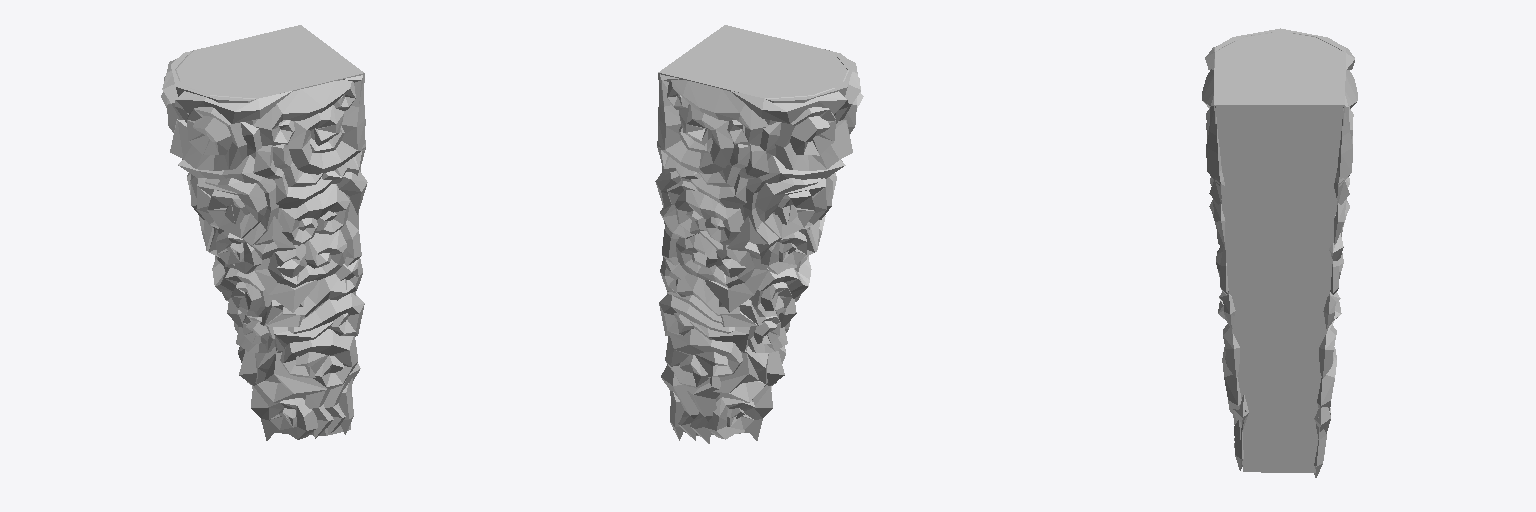
File: Yundan.obj
The picture shows the model from 3 angles: view 1: azimuth 30°, elevation 25°; view 2: azimuth 150°, elevation 25°; view 3: azimuth 270°, elevation 25°; orthographic projection.
Visible parts, largest first — view 1: polySurface6254 Flower_board:FlowerPl11, Flower_board:FlowerPl11 polySurface6257, Flower_board:FlowerPl11 polySurface6281, Flower_board:FlowerPl11 polySurface6283, Flower_board:FlowerPl11 polySurface6291, Flower_board:FlowerPl11 polySurface6259, Flower_board:FlowerPl11 polySurface6271, Flower_board:FlowerPl11 polySurface6304, Flower_board:FlowerPl11 polySurface6267, Flower_board:FlowerPl11 polySurface6285, Flower_board:FlowerPl11 polySurface6255, Flower_board:FlowerPl11 polySurface6302 (+16 smaller); view 2: polySurface6254 Flower_board:FlowerPl11, Flower_board:FlowerPl11 polySurface6281, Flower_board:FlowerPl11 polySurface6256, Flower_board:FlowerPl11 polySurface6282, Flower_board:FlowerPl11 polySurface6290, Flower_board:FlowerPl11 polySurface6304, Flower_board:FlowerPl11 polySurface6258, Flower_board:FlowerPl11 polySurface6267, Flower_board:FlowerPl11 polySurface6271, Flower_board:FlowerPl11 polySurface6284, Flower_board:FlowerPl11 polySurface6255, Flower_board:FlowerPl11 polySurface6302 (+14 smaller); view 3: polySurface6254 Flower_board:FlowerPl11, Flower_board:FlowerPl11 polySurface6256, Flower_board:FlowerPl11 polySurface6257, Flower_board:FlowerPl11 polySurface6264, Flower_board:FlowerPl11 polySurface6263, Flower_board:FlowerPl11 polySurface6291, Flower_board:FlowerPl11 polySurface6290.
Part boxes in pixels (x1,y1,x2,y2): polySurface6254 Flower_board:FlowerPl11: (171,25,364,435); Flower_board:FlowerPl11 polySurface6257: (289,75,365,174); Flower_board:FlowerPl11 polySurface6281: (161,76,246,170); Flower_board:FlowerPl11 polySurface6283: (254,80,355,145); Flower_board:FlowerPl11 polySurface6291: (280,329,357,389); Flower_board:FlowerPl11 polySurface6259: (268,230,347,287); Flower_board:FlowerPl11 polySurface6271: (238,321,332,402); Flower_board:FlowerPl11 polySurface6304: (178,155,295,259); Flower_board:FlowerPl11 polySurface6267: (187,173,267,237); Flower_board:FlowerPl11 polySurface6285: (279,184,349,245); Flower_board:FlowerPl11 polySurface6255: (162,45,291,123); Flower_board:FlowerPl11 polySurface6302: (212,256,273,316); polySurface6254 Flower_board:FlowerPl11: (658,25,853,435); Flower_board:FlowerPl11 polySurface6281: (775,78,863,170); Flower_board:FlowerPl11 polySurface6256: (658,74,733,173); Flower_board:FlowerPl11 polySurface6282: (667,79,768,145); Flower_board:FlowerPl11 polySurface6290: (665,328,742,387); Flower_board:FlowerPl11 polySurface6304: (727,155,845,259); Flower_board:FlowerPl11 polySurface6258: (676,233,754,287); Flower_board:FlowerPl11 polySurface6267: (755,173,836,237); Flower_board:FlowerPl11 polySurface6271: (690,321,785,402); Flower_board:FlowerPl11 polySurface6284: (675,190,743,244); Flower_board:FlowerPl11 polySurface6255: (731,49,860,123); Flower_board:FlowerPl11 polySurface6302: (749,256,811,316); polySurface6254 Flower_board:FlowerPl11: (1214,28,1345,472); Flower_board:FlowerPl11 polySurface6256: (1337,96,1353,186); Flower_board:FlowerPl11 polySurface6257: (1206,96,1221,185); Flower_board:FlowerPl11 polySurface6264: (1223,324,1239,377); Flower_board:FlowerPl11 polySurface6263: (1319,325,1336,378); Flower_board:FlowerPl11 polySurface6291: (1222,347,1241,413); Flower_board:FlowerPl11 polySurface6290: (1317,347,1336,410).
Size of the model in its own units: 0.4834 by 1 by 0.376.